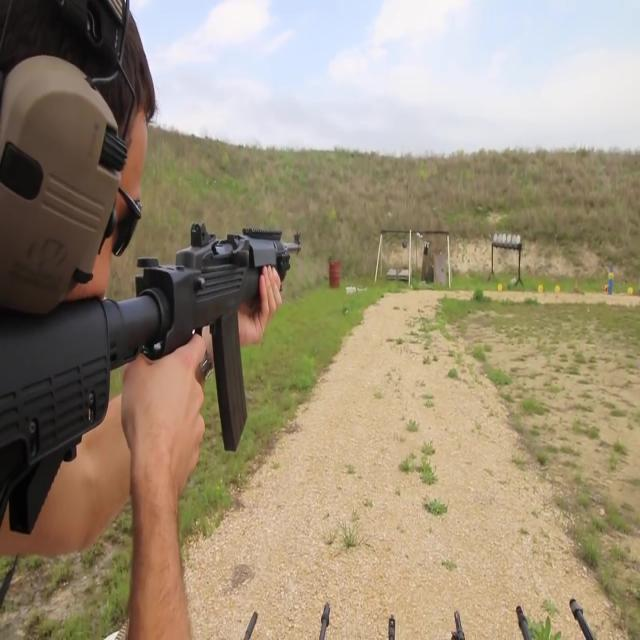Weapon: (8, 230, 338, 504), (310, 583, 354, 640), (500, 583, 544, 640), (562, 575, 598, 640), (230, 593, 276, 640), (443, 587, 478, 640), (382, 585, 404, 640)
